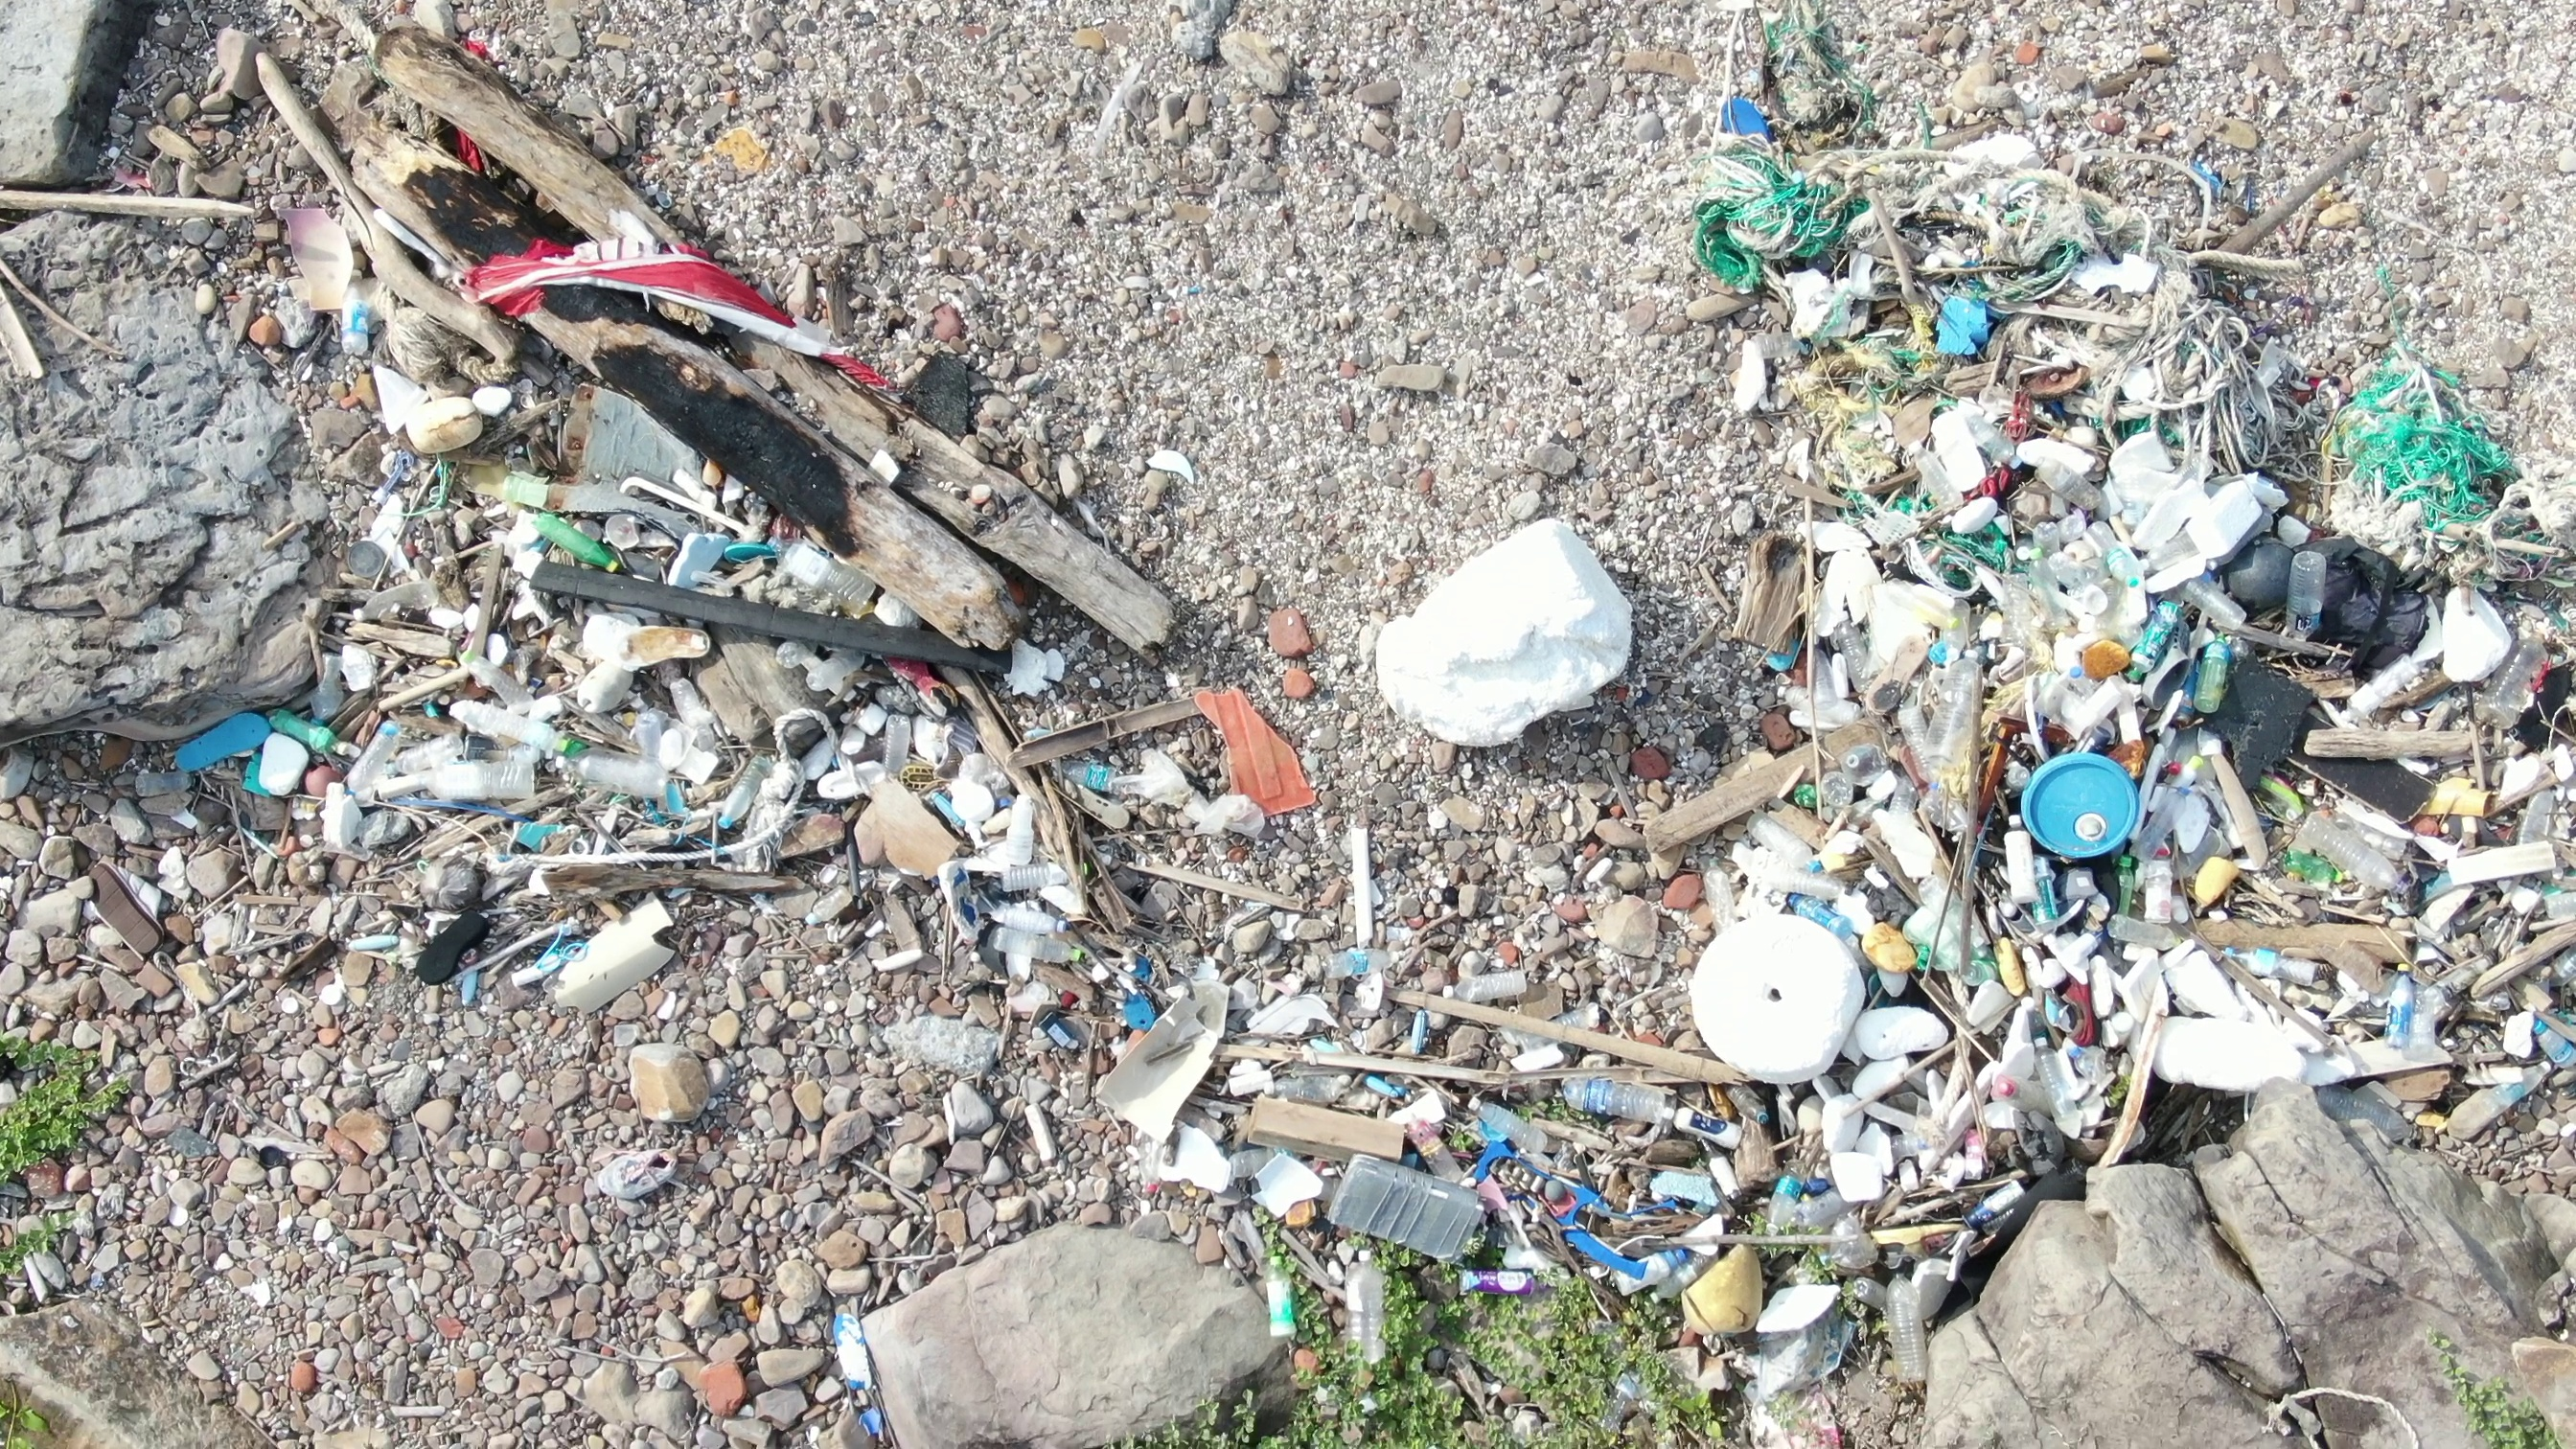bottle: (763, 525, 885, 619), (1332, 1240, 1412, 1382), (524, 502, 632, 589), (1881, 1246, 1943, 1394), (1548, 1063, 1681, 1131), (2116, 584, 2197, 685), (2275, 548, 2348, 644), (262, 695, 370, 759), (327, 260, 393, 364), (2190, 616, 2238, 727), (2378, 961, 2429, 1062), (1258, 1246, 1306, 1348)
garbage: (1674, 7, 2576, 1217), (1109, 665, 1960, 1334), (318, 361, 1111, 936), (232, 96, 1023, 418), (159, 702, 441, 878)
